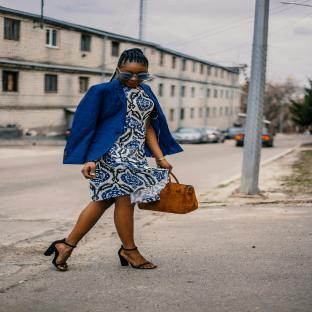Human: (44, 48, 183, 271)
